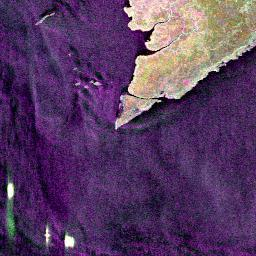Ship: (3, 181, 18, 199), (63, 232, 75, 248), (41, 225, 52, 242)
